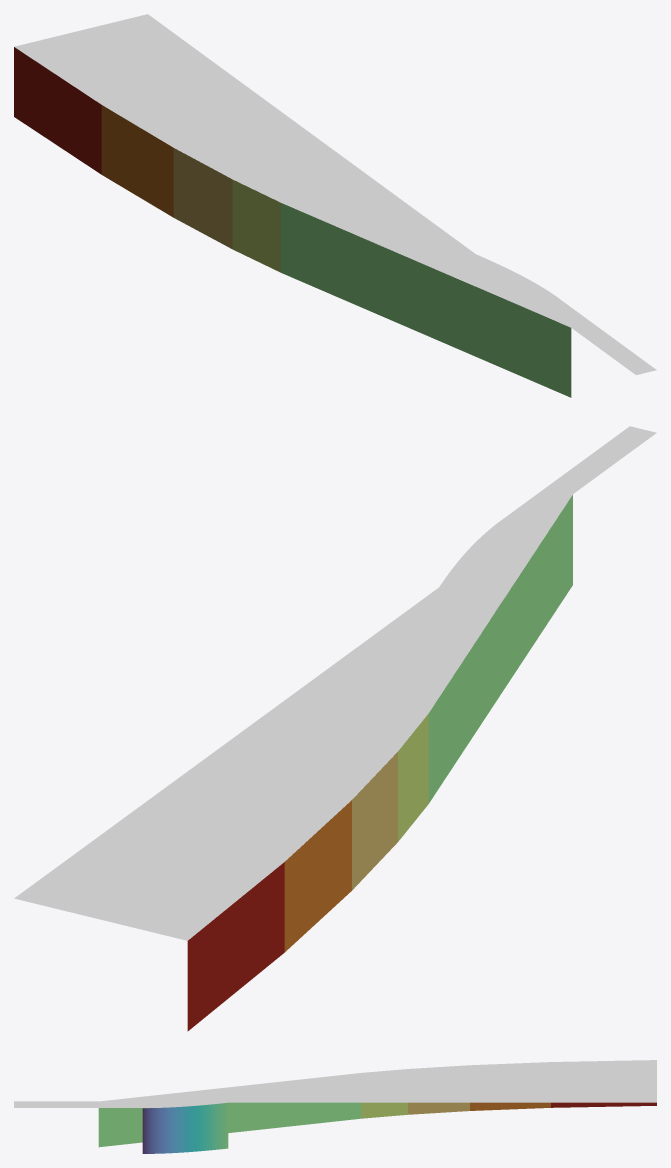
The model's file is scramjet_n5_m38.glb.
3 views of the same model, one above another, from view 1: azimuth 30°, elevation 25°; view 2: azimuth 150°, elevation 25°; view 3: azimuth 270°, elevation 25° (orthographic). The views are drawn at different scales.
Visible parts, largest first — view 1: Renderer Node; view 2: Renderer Node; view 3: Renderer Node.
Part boxes in pixels (box(x1,y1,x2,y2)): Renderer Node: box(14, 14, 656, 397); Renderer Node: box(14, 426, 656, 1031); Renderer Node: box(14, 1060, 656, 1153).
Size of the model in its own units: 1.13 by 0.5006 by 6.37.
